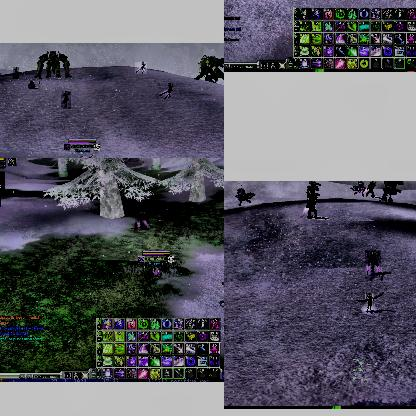caliana: (365, 250, 381, 278), (157, 83, 175, 99), (135, 212, 149, 230), (61, 91, 71, 109), (135, 62, 147, 74), (13, 67, 19, 79)
